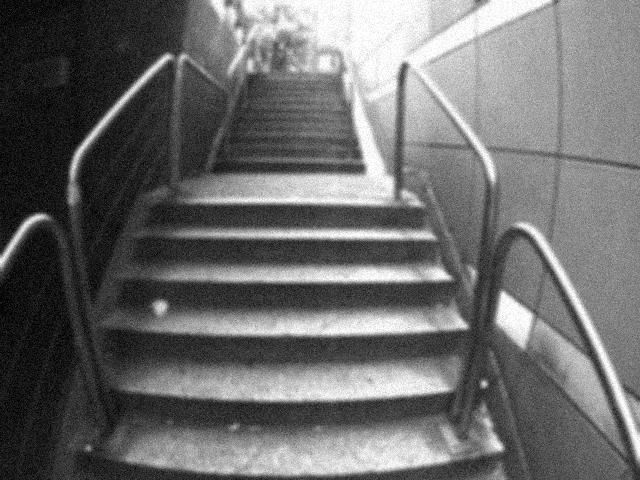Escaleras: (52, 208, 514, 479), (211, 66, 355, 166)
